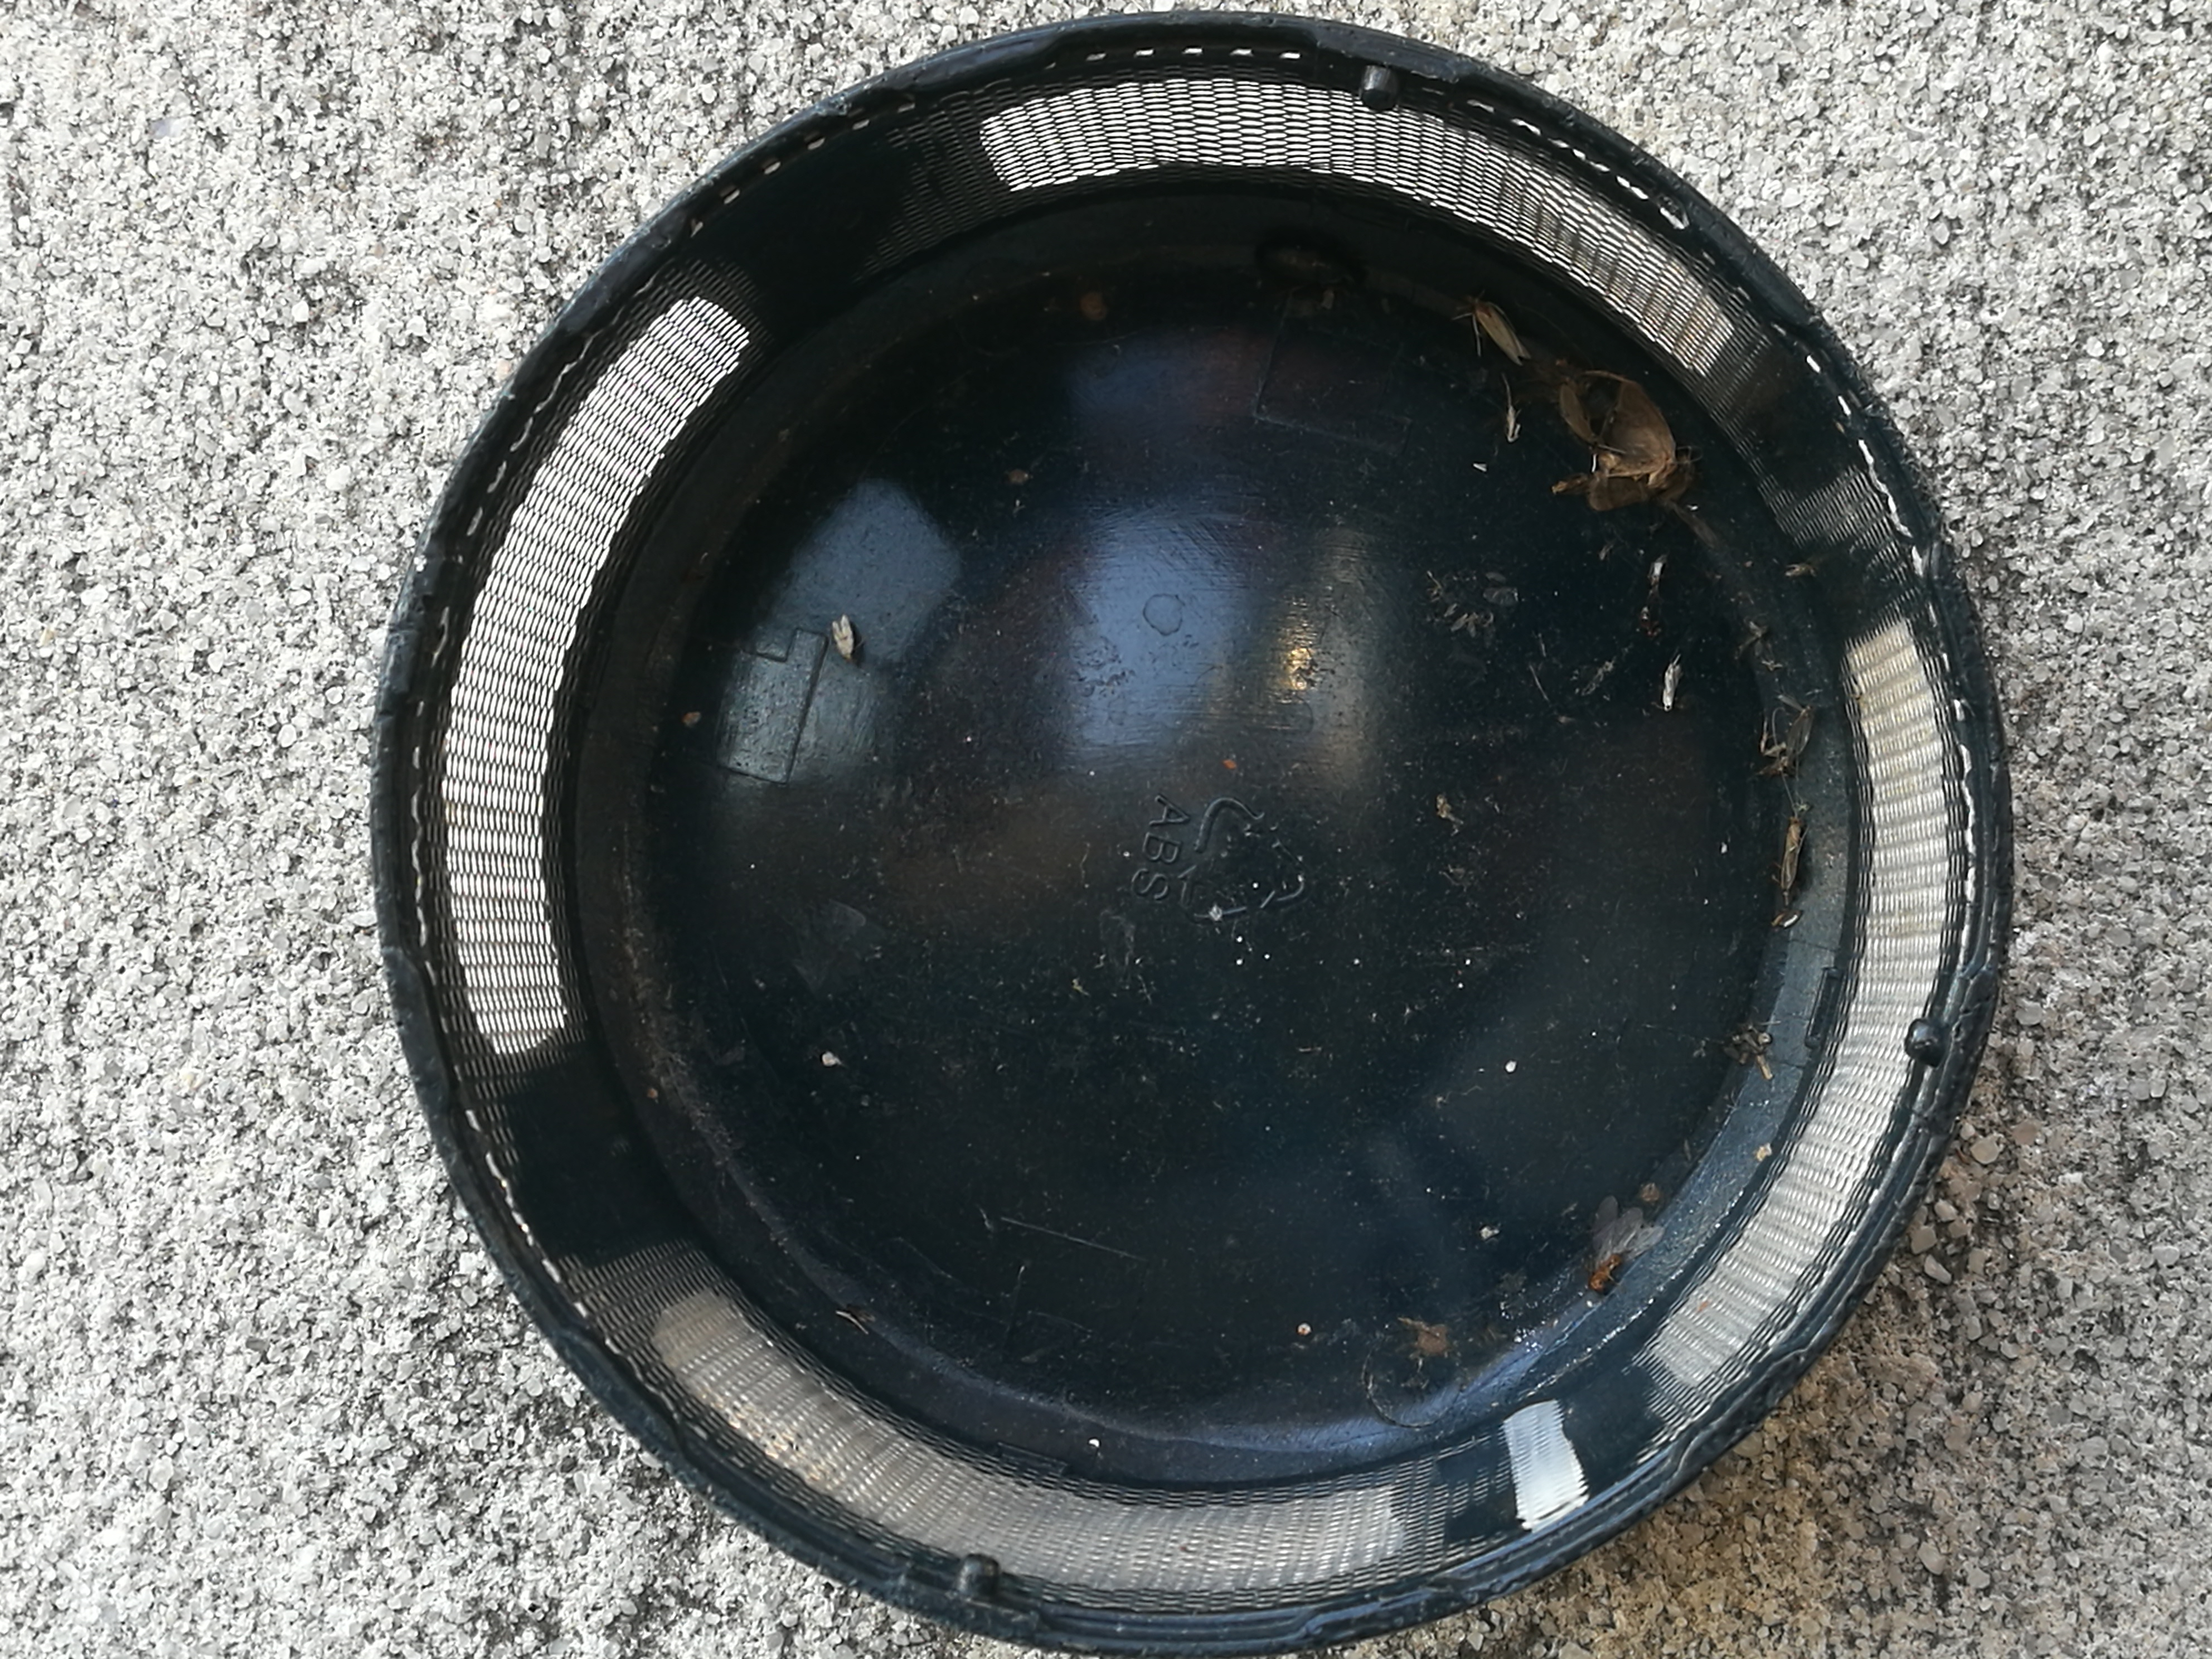beetle: (1258, 239, 1357, 288)
mosquito: (1472, 291, 1531, 369), (1559, 389, 1595, 443), (1782, 817, 1799, 887), (1662, 662, 1677, 711)
moth: (1597, 382, 1677, 477), (1592, 1195, 1663, 1291), (833, 615, 852, 660)
